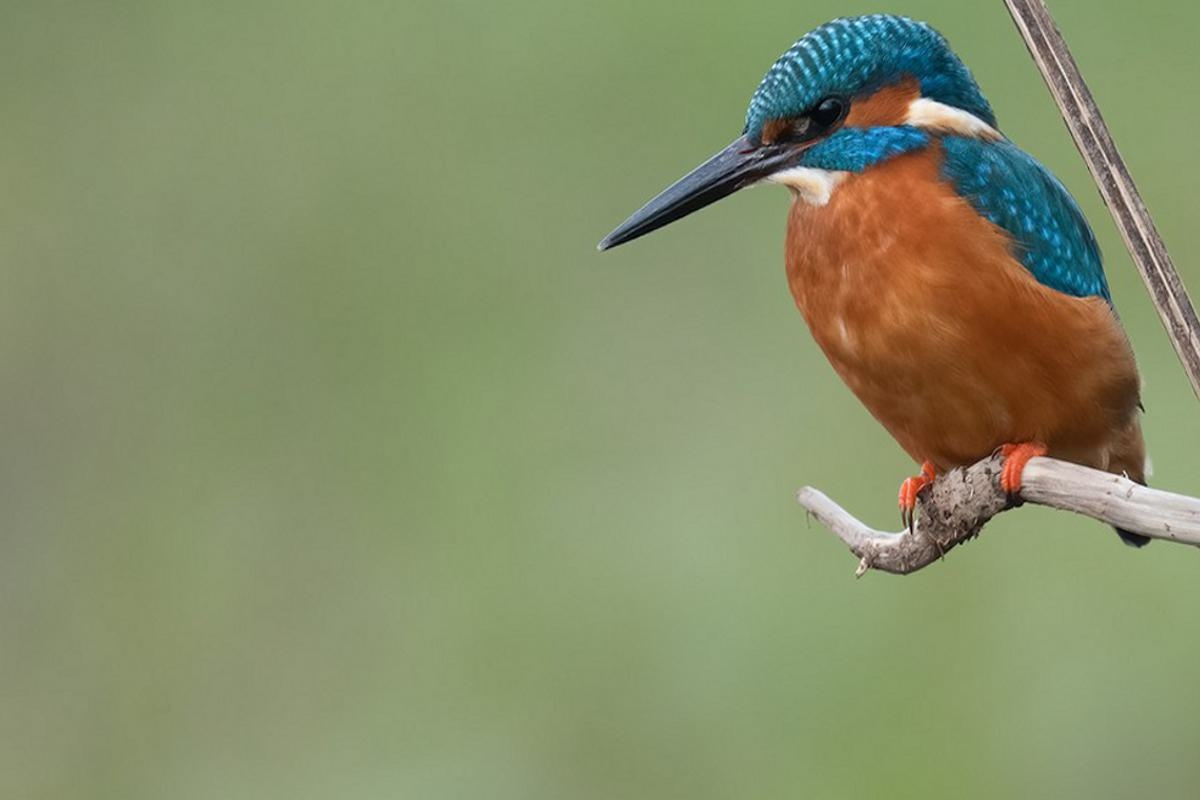kingfisher: (604, 11, 1175, 548)
